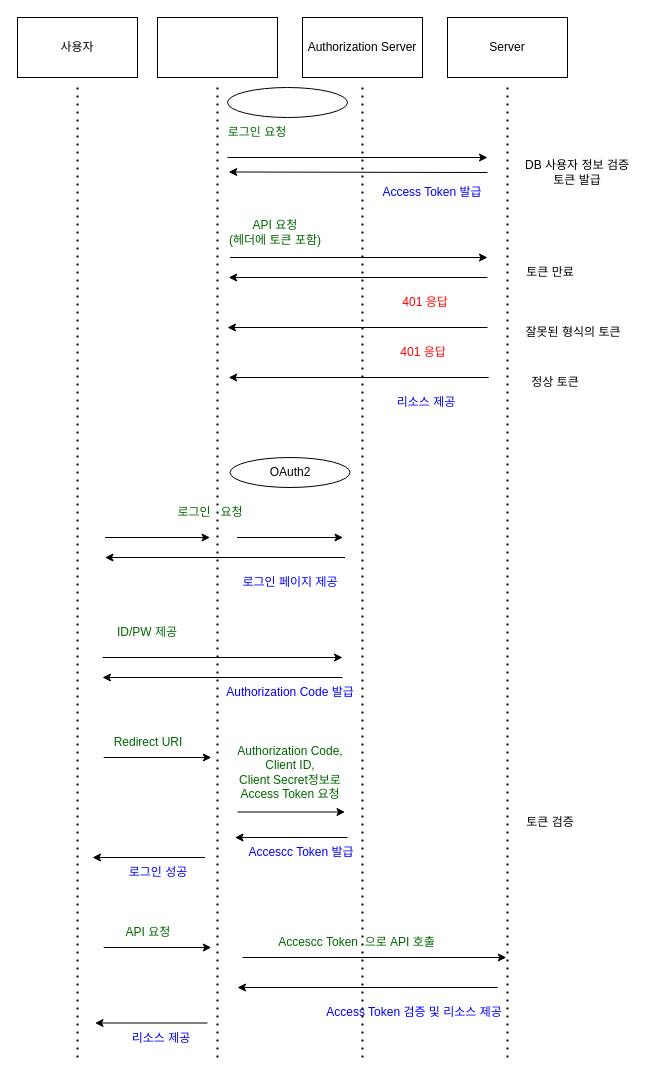
Some shapes in this 655 by 1077 pixel diagram are drawn without their labels. The centre of each missing label's shape, as x and y in pixels:
"Client" belongs at point 217,47.
"JWT" belongs at point 287,102.
